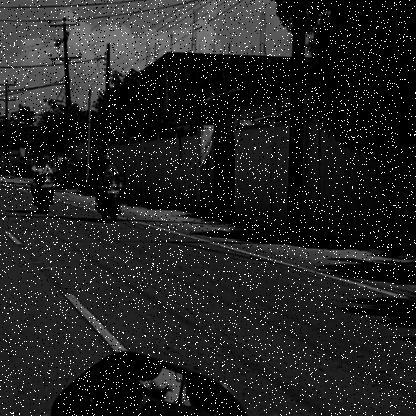motorcycle: (92, 176, 128, 226), (27, 173, 61, 216)
